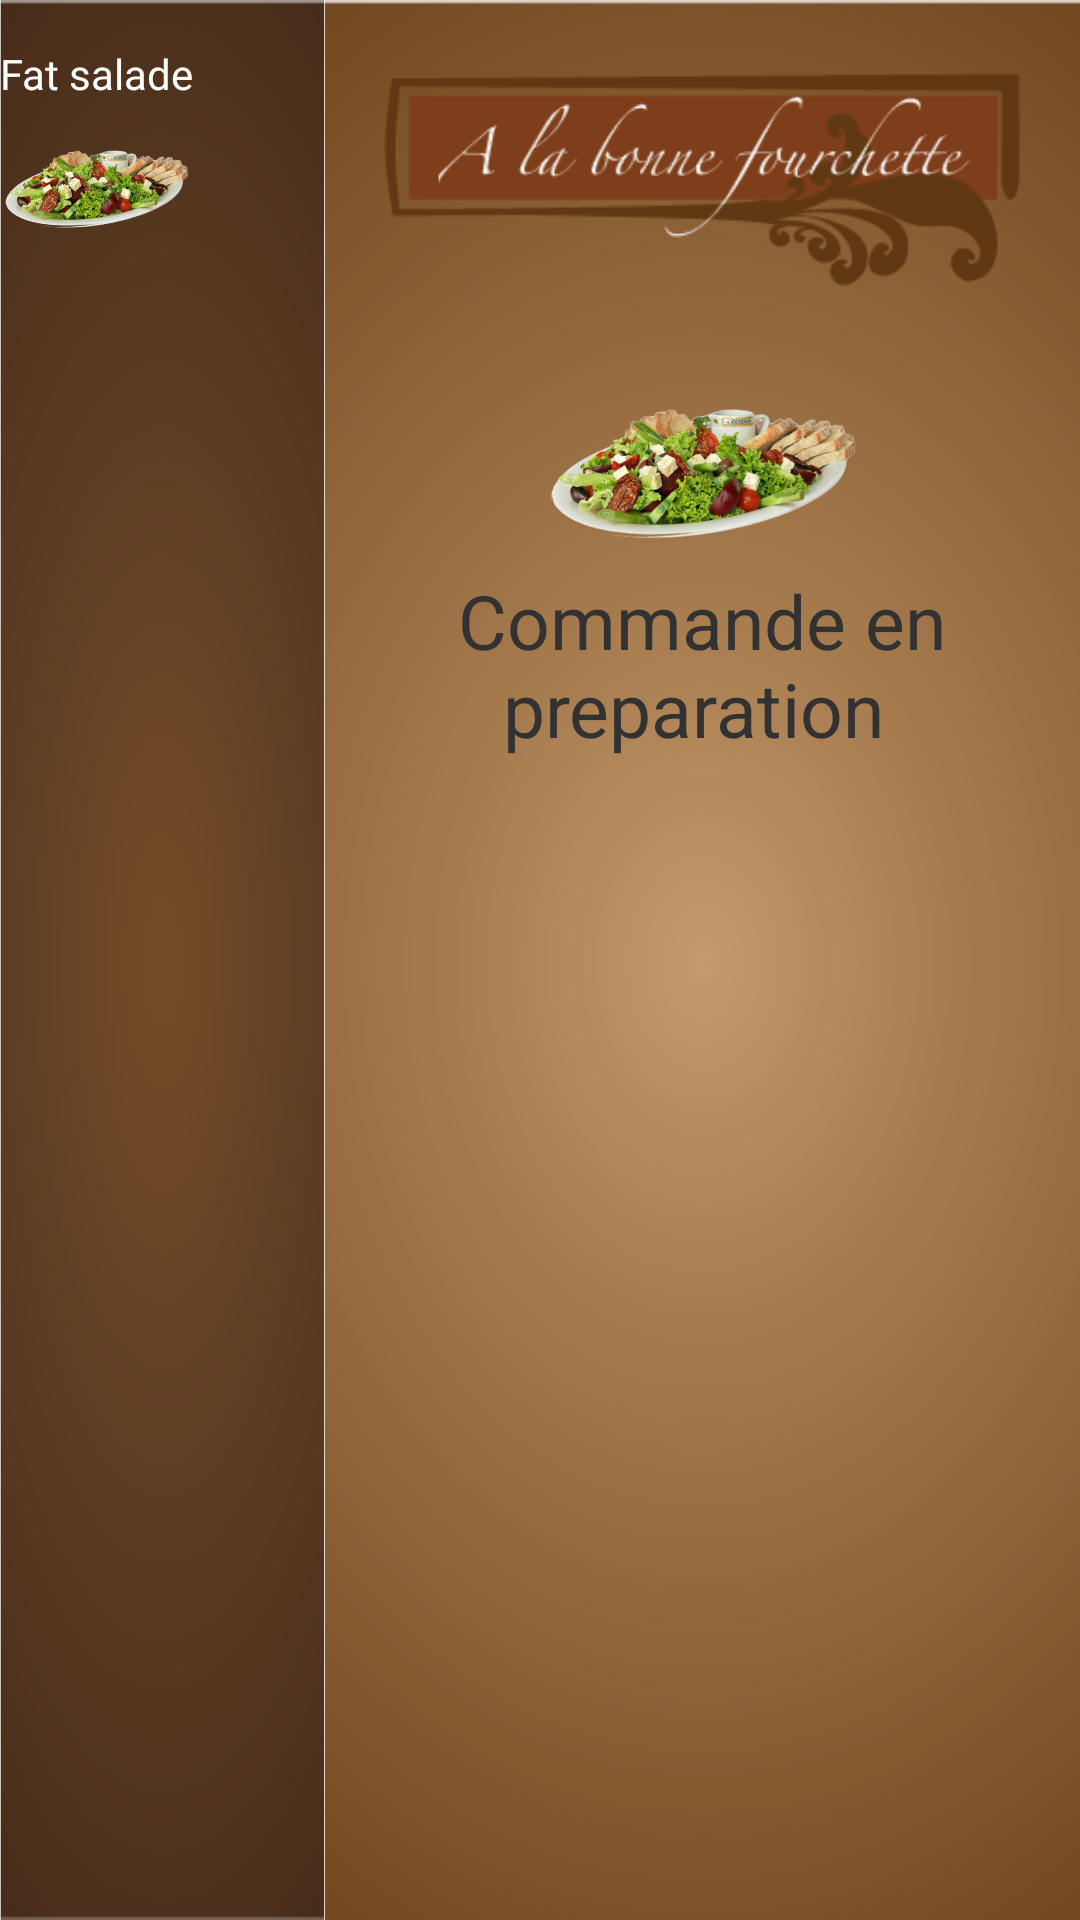

Screen size 1080px x 1920px. Icon name, then its box in pixels as (x1=x1, y1=y1, x2=x2, y2=y2):
salad platter: (x1=5, y1=150, x2=188, y2=228), (x1=551, y1=409, x2=855, y2=538)
